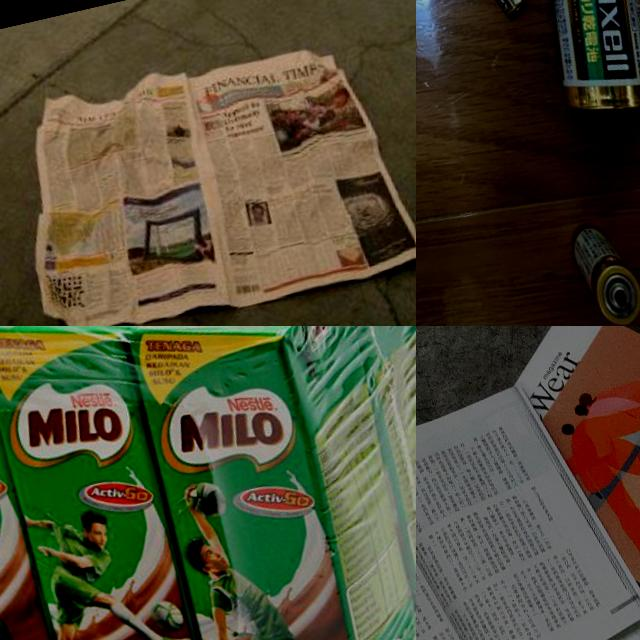bateria: (515, 0, 640, 125), (568, 214, 640, 326), (428, 0, 533, 33)
caixinha: (0, 326, 416, 640)
papel: (0, 18, 416, 326), (416, 326, 640, 640)
